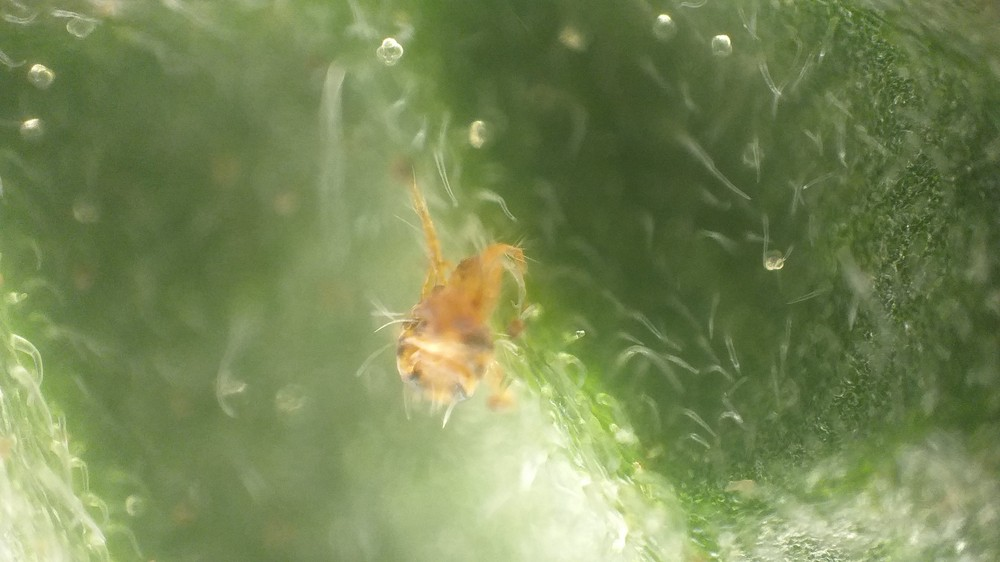Aracnido Rojo: (363, 179, 536, 439)
